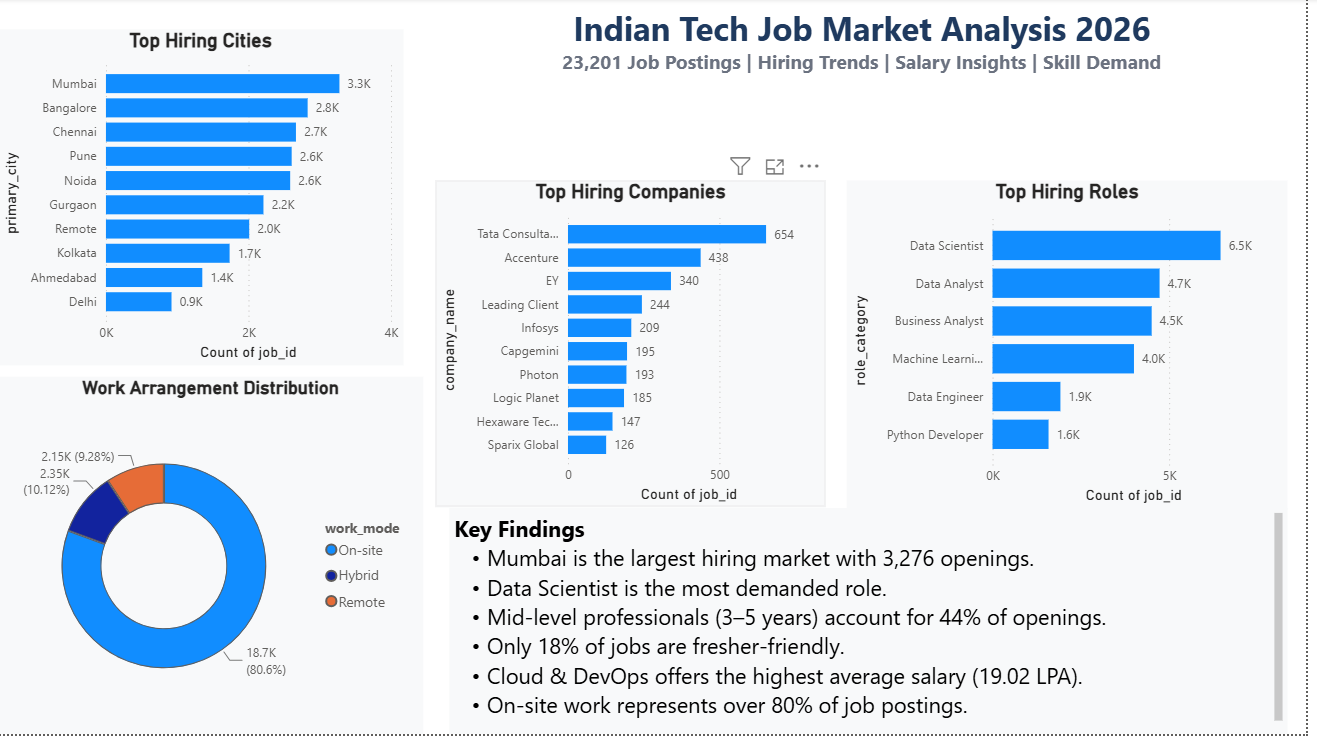

Layout of this report page (visuals, bound fields, positions):
{"tool":"powerbi","page":{"name":"Executive Insights Dashboard","canvas":[1280,720],"ordinal":3},"visuals":[{"type":"clusteredBarChart","title":"Top Hiring Cities","fields":{"Category":["indian_tech_jobs_2026.primary_city"],"Y":["CountNonNull(indian_tech_jobs_2026.job_id)"]},"box":[0,30.9,396.7,328.7],"z":0},{"type":"clusteredBarChart","title":"Top Hiring Companies","fields":{"Category":["indian_tech_jobs_2026.company_name"],"Y":["CountNonNull(indian_tech_jobs_2026.job_id)"]},"box":[427.6,177.9,381.9,320.1],"z":1000},{"type":"clusteredBarChart","title":"Top Hiring Roles","fields":{"Category":["indian_tech_jobs_2026.role_category"],"Y":["CountNonNull(indian_tech_jobs_2026.job_id)"]},"box":[830.4,177.9,431.3,321.3],"z":2000},{"type":"donutChart","title":"Work Arrangement Distribution","fields":{"Category":["indian_tech_jobs_2026.work_mode"],"Y":["CountNonNull(indian_tech_jobs_2026.job_id)"]},"box":[0,370.2,415.9,349.6],"z":3000},{"type":"textbox","box":[441,498.5,820.1,221.2],"z":4000},{"type":"textbox","box":[427.6,2.5,834.1,96.4],"z":5000}]}

Visuals, with their boxes in screenshot pixels (x1, y1, x2, y2), scaled from the page's 1280x720 canvas onto the 1317x740 screenshot:
"Top Hiring Cities" clusteredBarChart: (x1=0, y1=32, x2=408, y2=370)
"Top Hiring Companies" clusteredBarChart: (x1=440, y1=183, x2=833, y2=512)
"Top Hiring Roles" clusteredBarChart: (x1=854, y1=183, x2=1298, y2=513)
"Work Arrangement Distribution" donutChart: (x1=0, y1=380, x2=428, y2=739)
textbox: (x1=454, y1=512, x2=1298, y2=739)
textbox: (x1=440, y1=3, x2=1298, y2=102)
